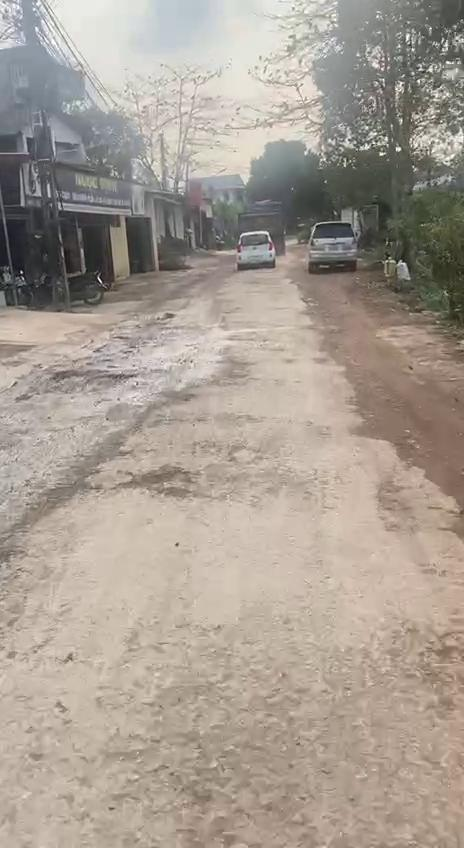pothole: (126, 458, 196, 496)
